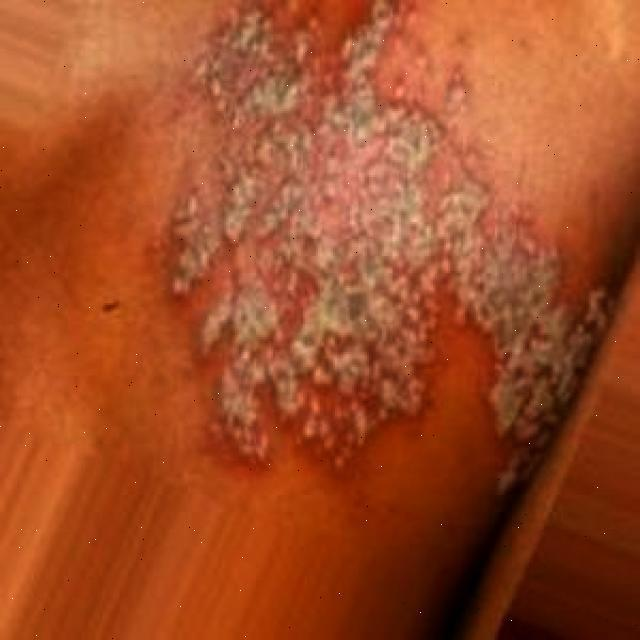Shingles: (162, 0, 604, 498)
